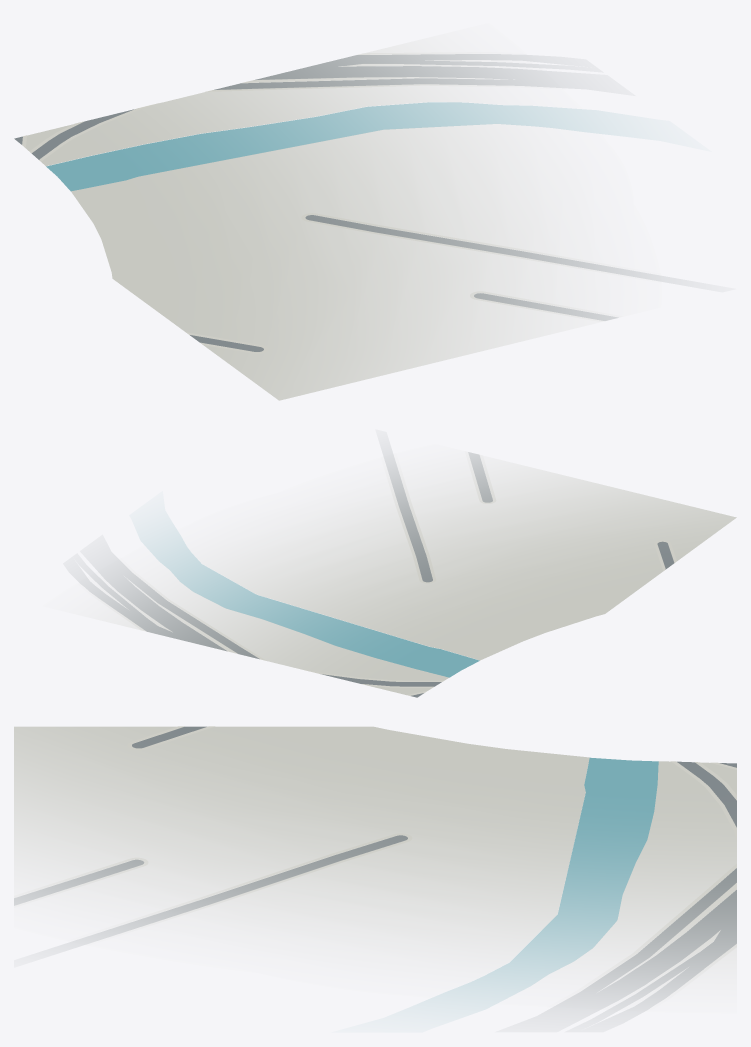
3 views of the same model, one above another, from view 1: azimuth 30°, elevation 25°; view 2: azimuth 150°, elevation 25°; view 3: azimuth 270°, elevation 25° (orthographic). The views are drawn at different scales.
Parts seen in each view (by area): view 1: city; view 2: city; view 3: city.
Boxes of the visible parts, x1,y1,x2,y2 form: city: (14, 40, 683, 400); city: (72, 446, 736, 697); city: (14, 726, 736, 1020).
Size of the model in its own units: 500 by 0.4 by 500.
